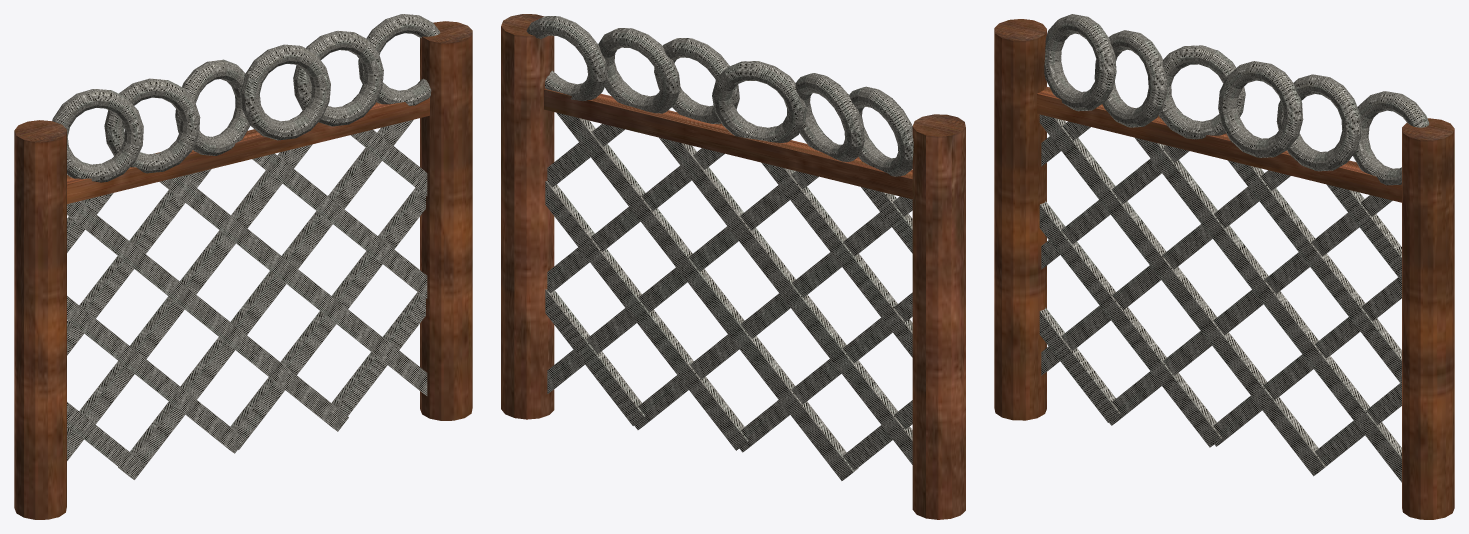
Rendered from cercaMate.fbx.
3 views of the same model, side by side, from view 1: azimuth 30°, elevation 25°; view 2: azimuth 150°, elevation 25°; view 3: azimuth 330°, elevation 25° (orthographic).
Parts seen in each view (by area): view 1: Cube.008; view 2: Cube.008; view 3: Cube.008.
Boxes of the visible parts, x1=… form: Cube.008: x1=14, y1=14, x2=472, y2=519; Cube.008: x1=501, y1=14, x2=965, y2=519; Cube.008: x1=994, y1=14, x2=1454, y2=519.
Size of the model in its own units: 1451 by 1240 by 145.
